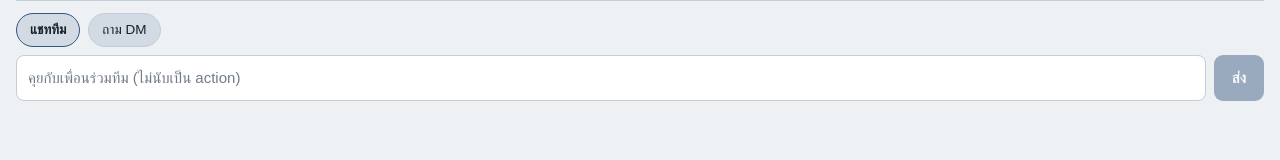
it: ChatPanel › shows a generic Thai error for other failures
Type "hi" into the field named "ข้อความแชททีม" at (611, 78), box left=16, top=55, right=1206, bottom=101
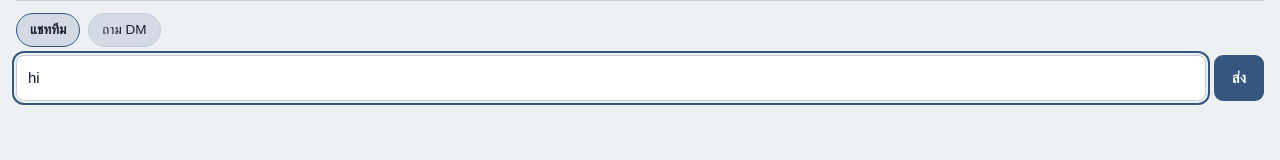
Click the button "ส่ง" at (1239, 78), box left=1214, top=55, right=1264, bottom=101
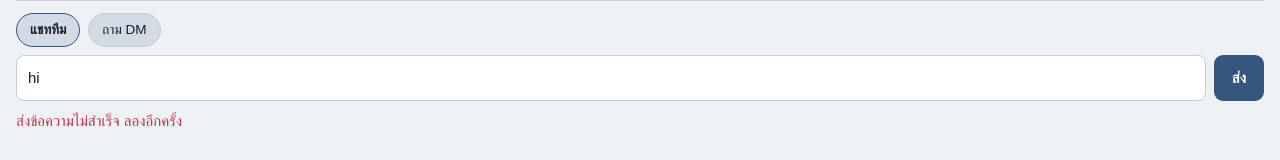
expect the message shows "ส่งข้อความไม่สำเร็จ": met, box left=16, top=112, right=182, bottom=129
